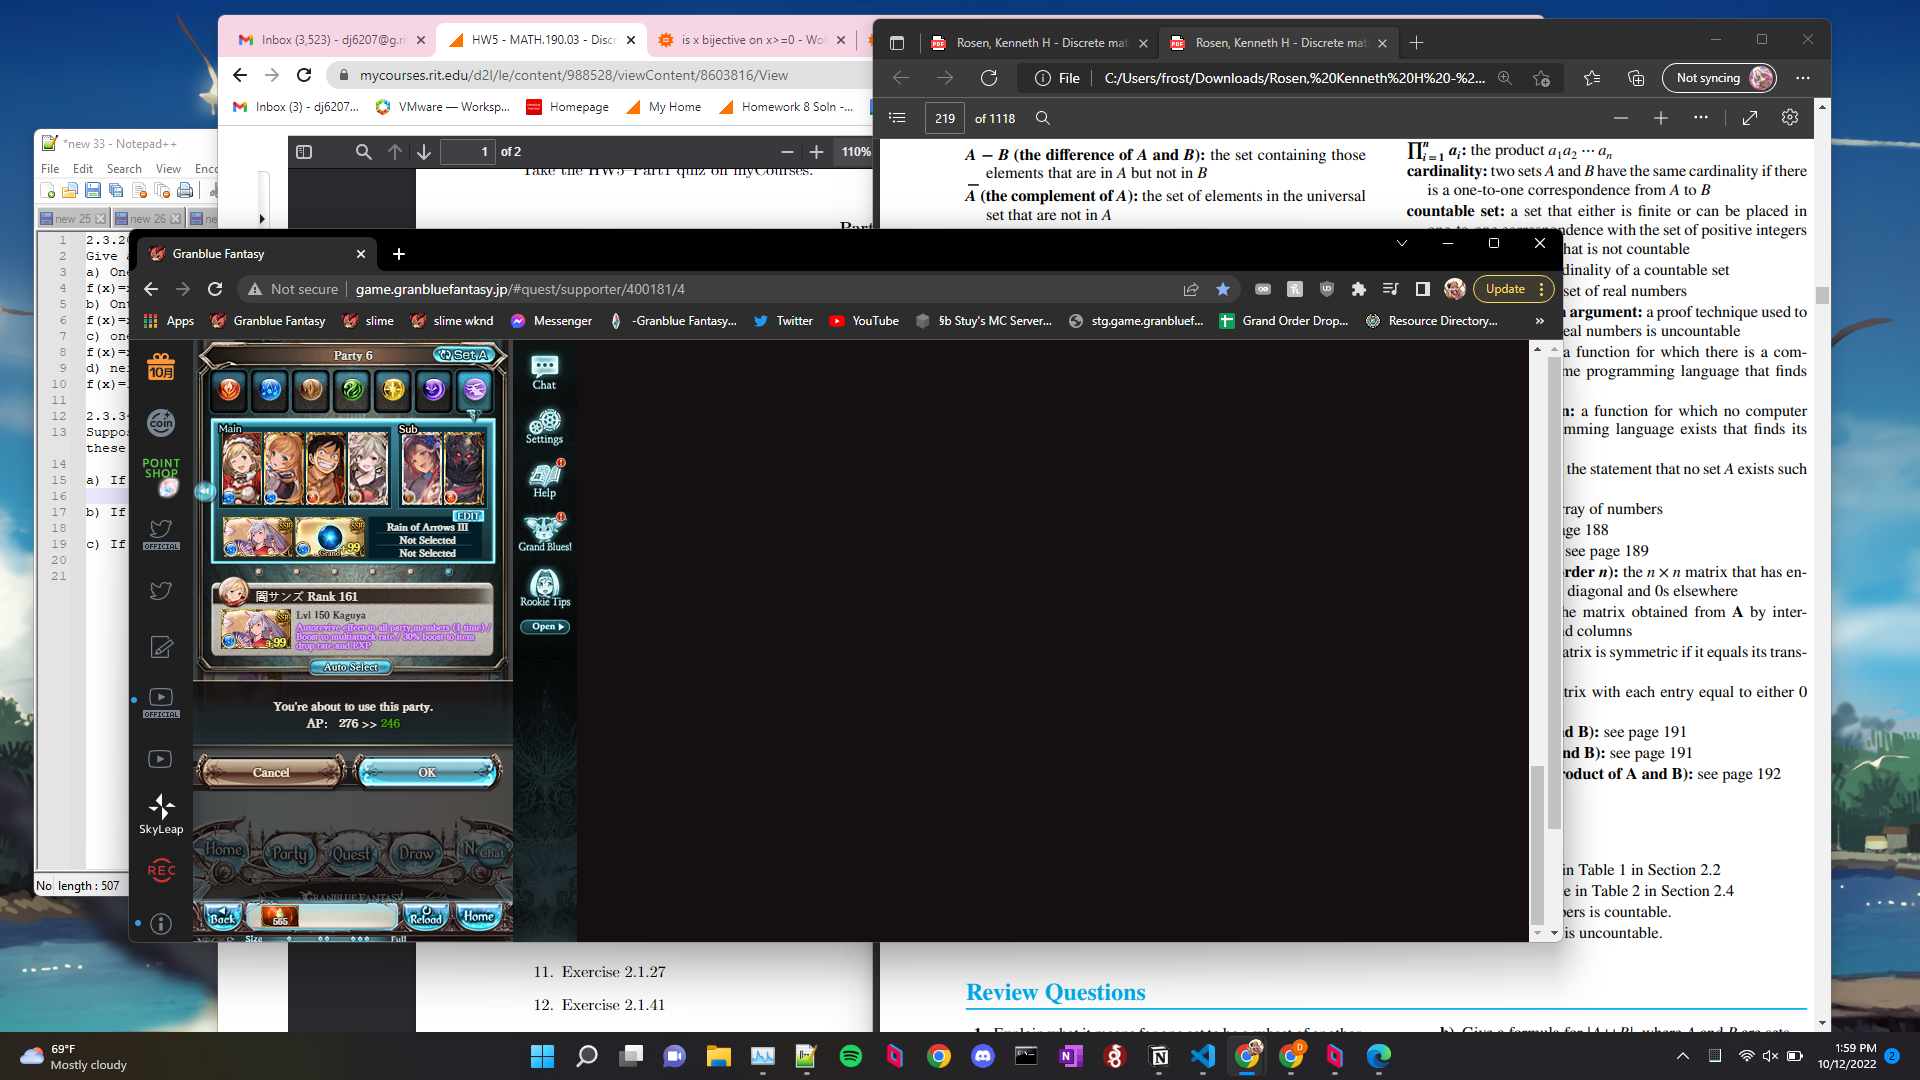Back Button: (200, 902, 244, 931)
Browser: (129, 231, 1564, 942)
Home Button: (455, 902, 504, 931)
Kaguya: (214, 583, 492, 655), (219, 516, 295, 556)
Ok Button: (357, 754, 502, 787)
Party Select Screen: (191, 340, 510, 897)
Reload Button: (400, 902, 451, 930)
Sarasa: (345, 430, 389, 504)
